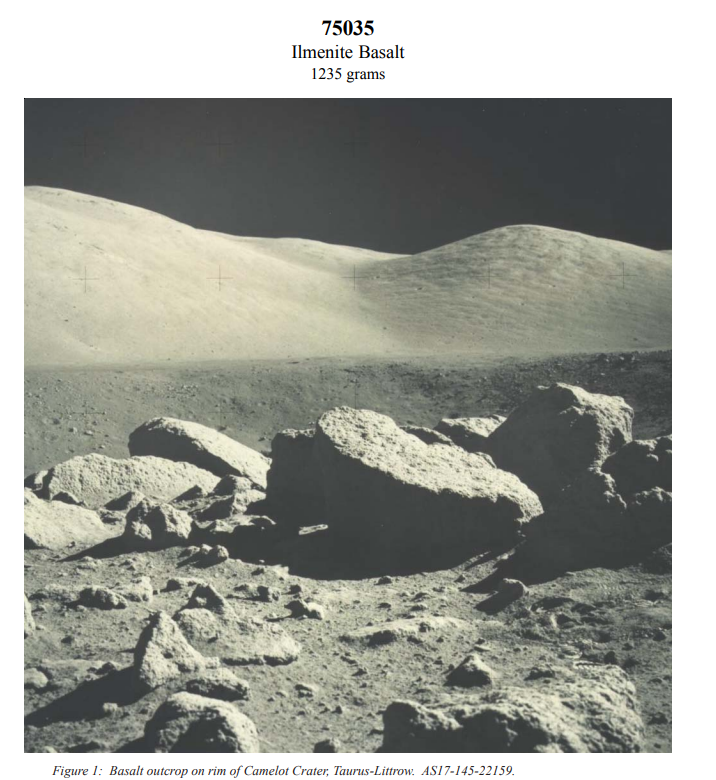Basalt: (312, 388, 551, 556), (114, 371, 204, 647), (556, 372, 664, 550)
